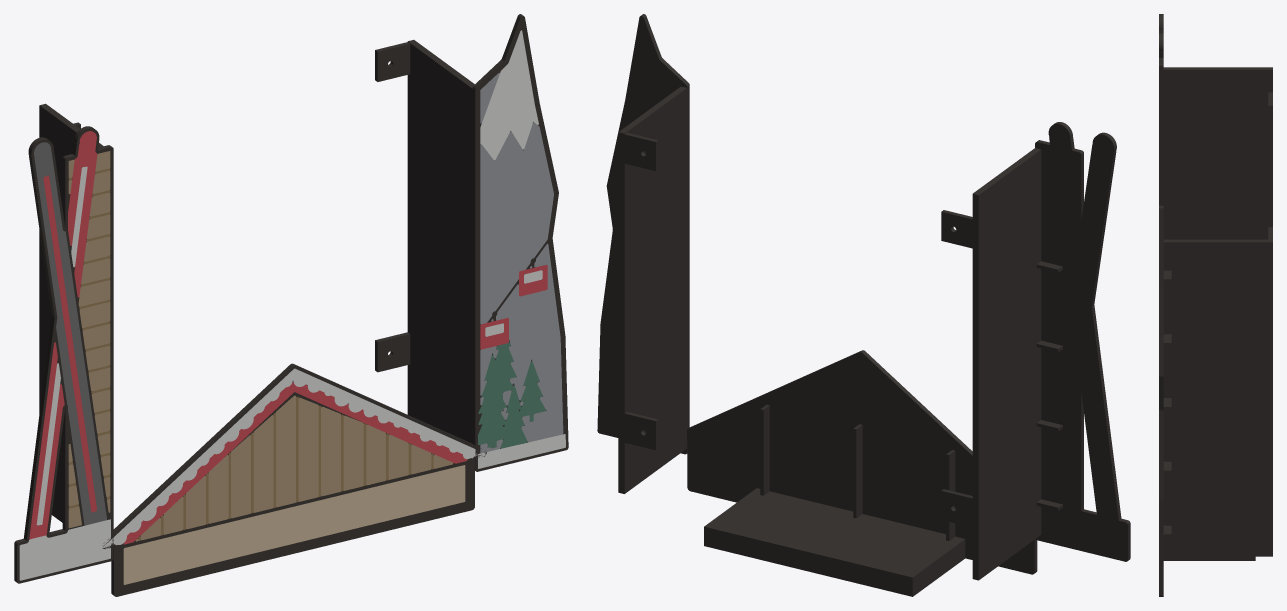
File: parts.glb
The picture shows the model from 3 angles, left to right: view 1: azimuth 30°, elevation 25°; view 2: azimuth 150°, elevation 25°; view 3: azimuth 270°, elevation 25°; orthographic projection. The views are drawn at different scales.
Visible parts, largest first — view 1: wing_right__base, wing_right__stone, topper__fur, topper__tan, wing_left__base, topper__base, wing_left__fur, wing_left__red, wing_left__grey, wing_right__white, wing_left__white, topper__white (+5 smaller); view 2: wing_left__base, topper__base, wing_right__base; view 3: wing_right__base, wing_left__base, topper__base.
Part boxes in pixels (box(x1,y1,x2,y2)): wing_right__base: box(375, 14, 568, 471); wing_right__stone: box(480, 73, 563, 453); topper__fur: box(135, 395, 453, 541); topper__tan: box(123, 465, 465, 584); wing_left__base: box(14, 103, 113, 583); topper__base: box(102, 363, 486, 596); wing_left__fur: box(68, 151, 110, 528); wing_left__red: box(29, 131, 97, 539); wing_left__grey: box(34, 142, 106, 525); wing_right__white: box(478, 30, 565, 468); wing_left__white: box(19, 166, 110, 580); topper__white: box(106, 368, 482, 545); wing_left__base: box(941, 122, 1130, 580); topper__base: box(687, 350, 1045, 596); wing_right__base: box(597, 14, 689, 493); wing_right__base: box(1159, 205, 1272, 596); wing_left__base: box(1159, 14, 1272, 239); topper__base: box(1163, 556, 1255, 560).
Size of the model in its own units: 343 by 286 by 73.
